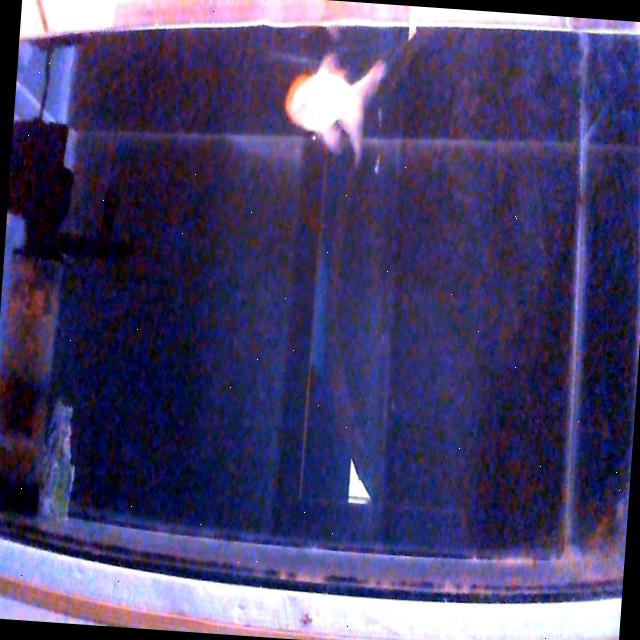fish: (280, 47, 390, 166)
